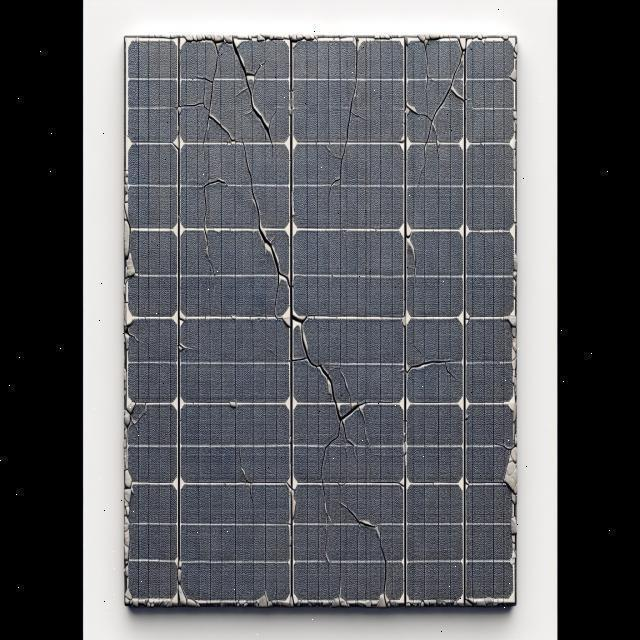Anomaly Solar Panel: (124, 37, 515, 601)
Structural Damage: (285, 311, 387, 565), (378, 29, 485, 189), (215, 137, 301, 322), (317, 35, 367, 201), (169, 41, 237, 162), (335, 492, 397, 610), (230, 36, 288, 160), (188, 174, 229, 290), (229, 450, 259, 503), (404, 357, 457, 380), (125, 403, 151, 426), (421, 41, 428, 112), (125, 329, 150, 347)
